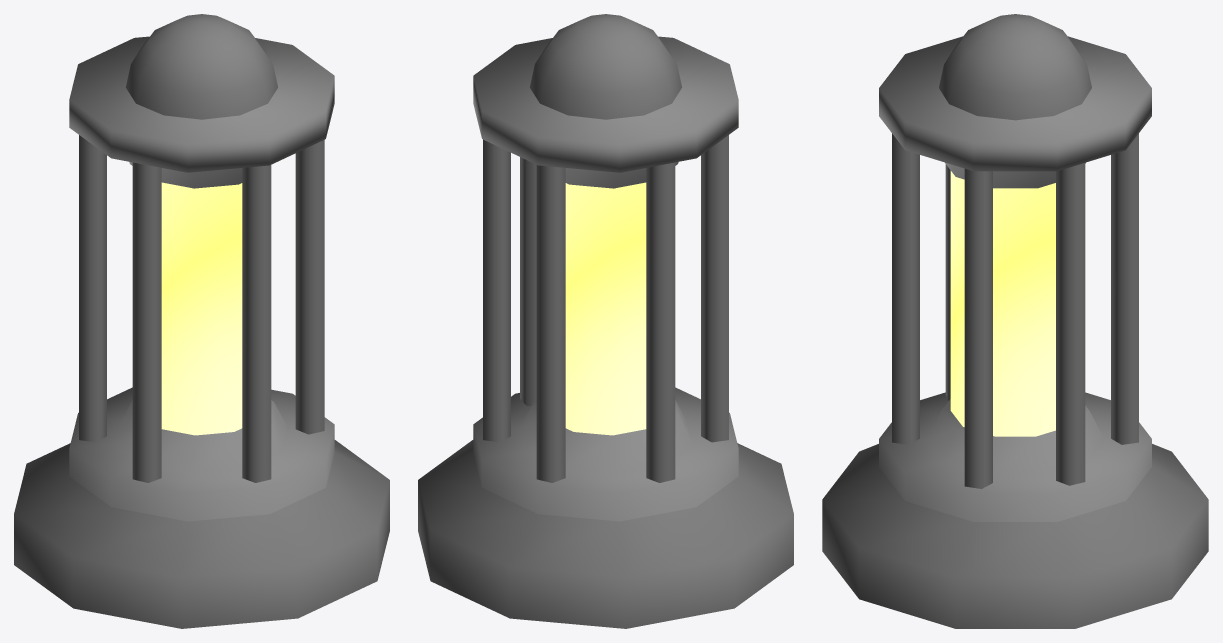
Rendered from LampadaFuturista.fbx.
3 renders of one model, left to right at view 1: azimuth 30°, elevation 25°; view 2: azimuth 150°, elevation 25°; view 3: azimuth 270°, elevation 25°, orthographic.
Visible parts, largest first — view 1: Lampada Futurista; view 2: Lampada Futurista; view 3: Lampada Futurista.
Boxes of the visible parts, <box> form: Lampada Futurista: <box>14,14,389,628</box>; Lampada Futurista: <box>418,14,793,628</box>; Lampada Futurista: <box>822,14,1208,628</box>.
Bounding box in the file's own units: 23.74 × 37.79 × 24.96.
